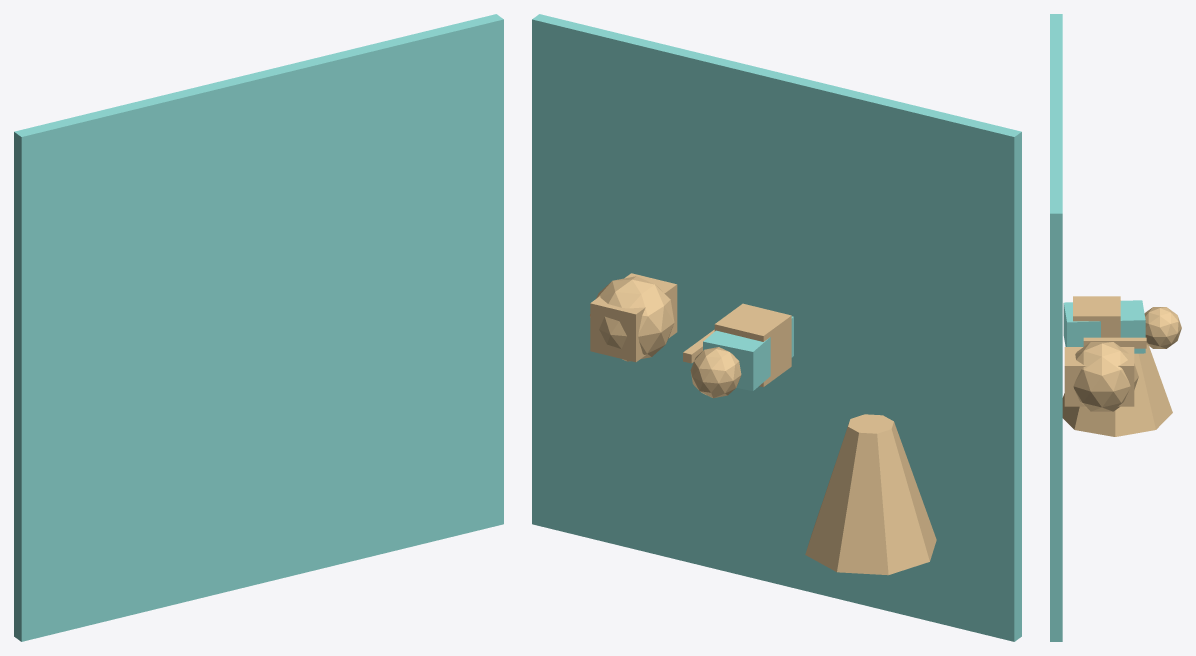
Rendered from samurai-odyssey-kit.glb.
The picture shows the model from 3 angles, left to right: view 1: azimuth 30°, elevation 25°; view 2: azimuth 150°, elevation 25°; view 3: azimuth 270°, elevation 25°; orthographic projection. The views are drawn at different scales.
Parts seen in each view (by area): view 1: ENVIRONMENT_GROUND; view 2: ENVIRONMENT_GROUND, ENVIRONMENT_LANDMARK, OBSTACLE, PROFILE_PLAYER_DETAIL, PROFILE_OBSTACLE_DETAIL, PLAYER_BODY, PLAYER_HEAD; view 3: ENVIRONMENT_GROUND, ENVIRONMENT_LANDMARK, OBSTACLE, PLAYER_BODY, PROFILE_PLAYER_DETAIL, PROFILE_OBSTACLE_DETAIL, PLAYER_HEAD, PLAYER_TOOL.
Boxes of the visible parts, left/top/right/bottom form: ENVIRONMENT_GROUND: left=14, top=14, right=503, bottom=641; ENVIRONMENT_GROUND: left=532, top=14, right=1021, bottom=641; ENVIRONMENT_LANDMARK: left=805, top=414, right=936, bottom=575; OBSTACLE: left=590, top=276, right=674, bottom=361; PROFILE_PLAYER_DETAIL: left=714, top=303, right=791, bottom=387; PROFILE_OBSTACLE_DETAIL: left=590, top=273, right=677, bottom=362; PLAYER_BODY: left=703, top=316, right=793, bottom=390; PLAYER_HEAD: left=690, top=347, right=741, bottom=398; ENVIRONMENT_GROUND: left=1050, top=14, right=1062, bottom=641; ENVIRONMENT_LANDMARK: left=1062, top=300, right=1172, bottom=436; OBSTACLE: left=1073, top=342, right=1138, bottom=411; PLAYER_BODY: left=1063, top=300, right=1145, bottom=353; PROFILE_PLAYER_DETAIL: left=1073, top=296, right=1120, bottom=337; PROFILE_OBSTACLE_DETAIL: left=1064, top=347, right=1134, bottom=406; PLAYER_HEAD: left=1144, top=307, right=1181, bottom=348; PLAYER_TOOL: left=1083, top=337, right=1146, bottom=348.
Size of what is drawn, in the model's own units: 9 by 9 by 2.51.
